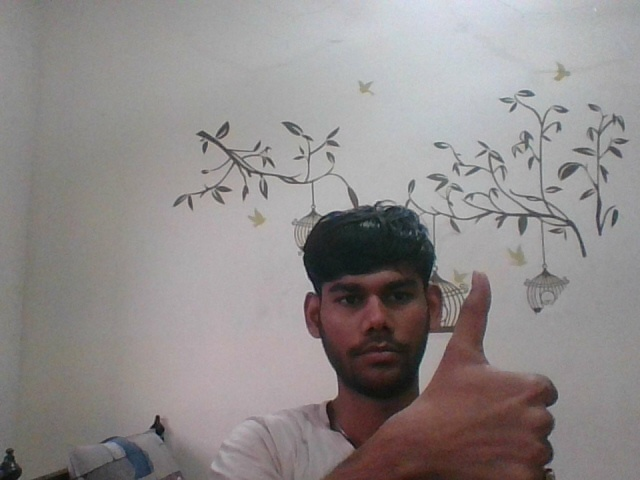Yes: (416, 266, 568, 478)
